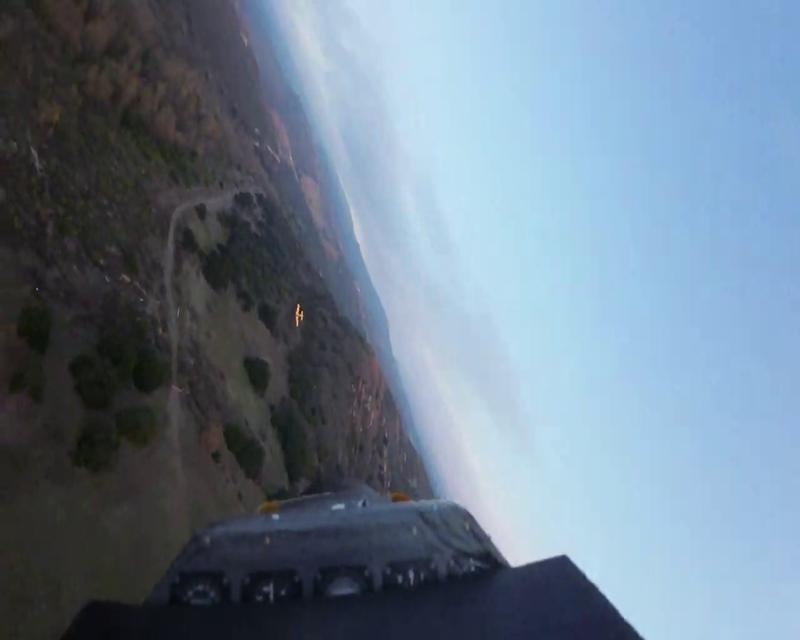UAV: (292, 303, 304, 328)
